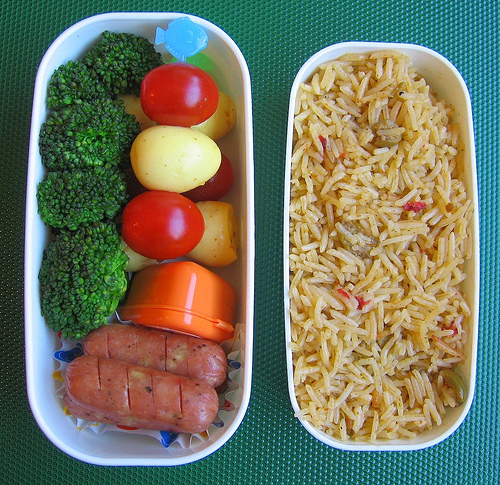egg: (128, 126, 222, 191)
